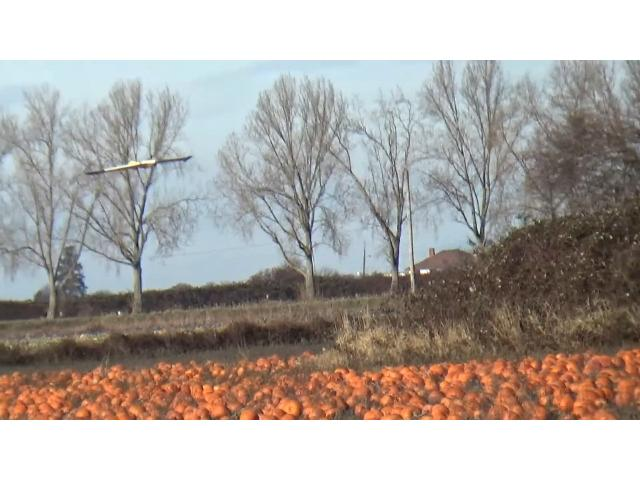Anti-Drone: (85, 156, 193, 174)
